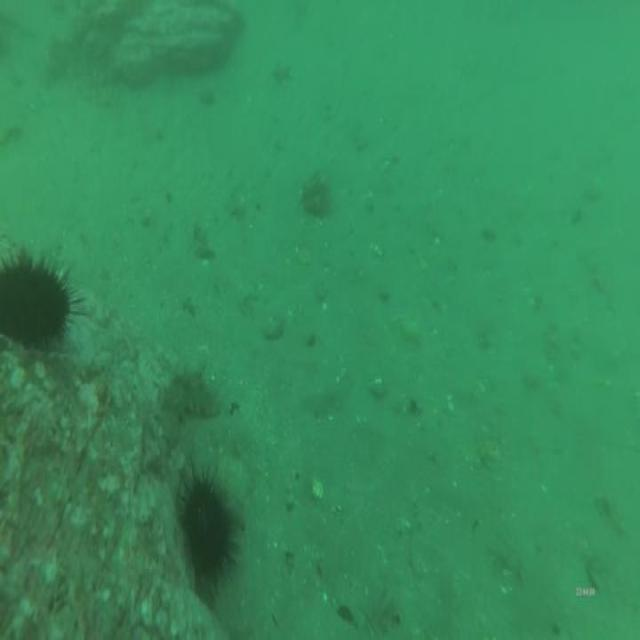echinus: (176, 462, 246, 606), (0, 246, 76, 364)
holothurian: (152, 364, 221, 455)
